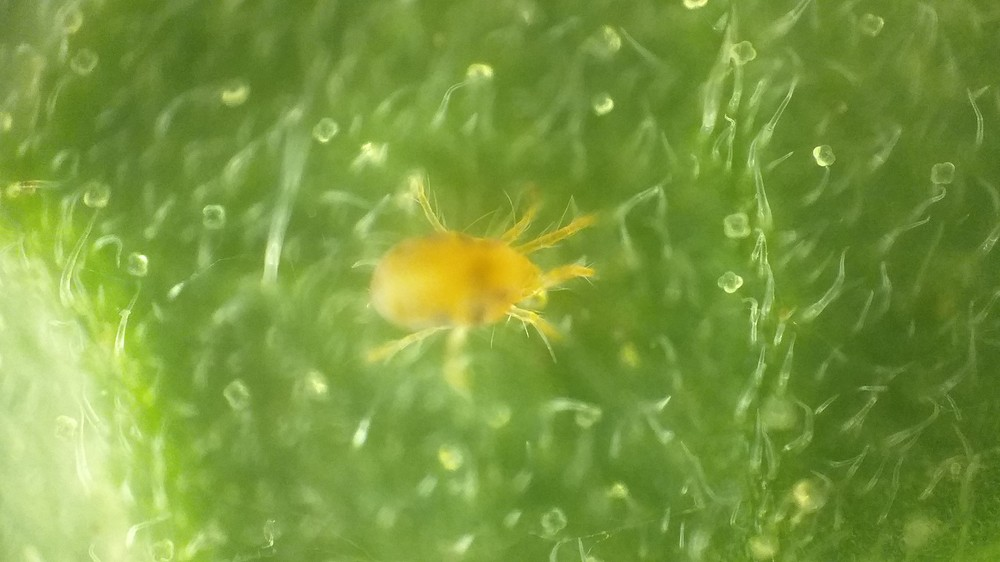Aracnido Rojo: (326, 172, 615, 400)
